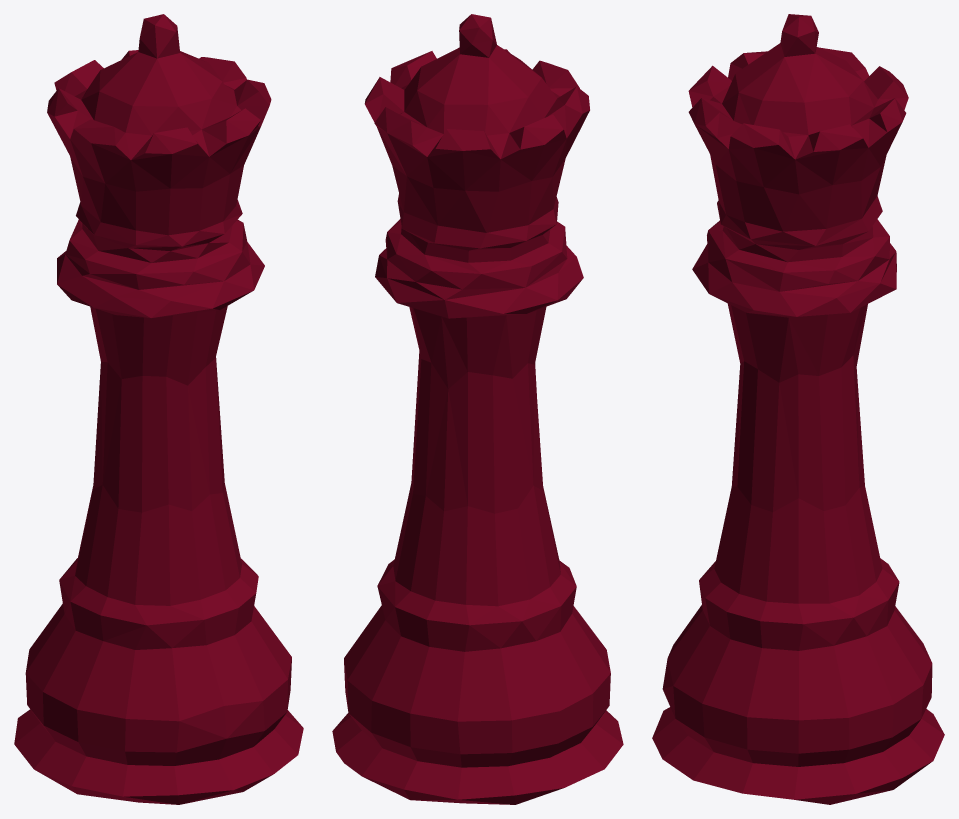
The model's file is queen_dk.fbx.
3 views of the same model, side by side, from view 1: azimuth 30°, elevation 25°; view 2: azimuth 150°, elevation 25°; view 3: azimuth 270°, elevation 25° (orthographic).
Parts seen in each view (by area): view 1: Queen_DK; view 2: Queen_DK; view 3: Queen_DK.
Part boxes in pixels (bbox=[...]): Queen_DK: bbox=[14, 14, 303, 804]; Queen_DK: bbox=[332, 14, 623, 804]; Queen_DK: bbox=[652, 14, 944, 804].
Size of the model in its own units: 1.71 by 4.8 by 1.72.
